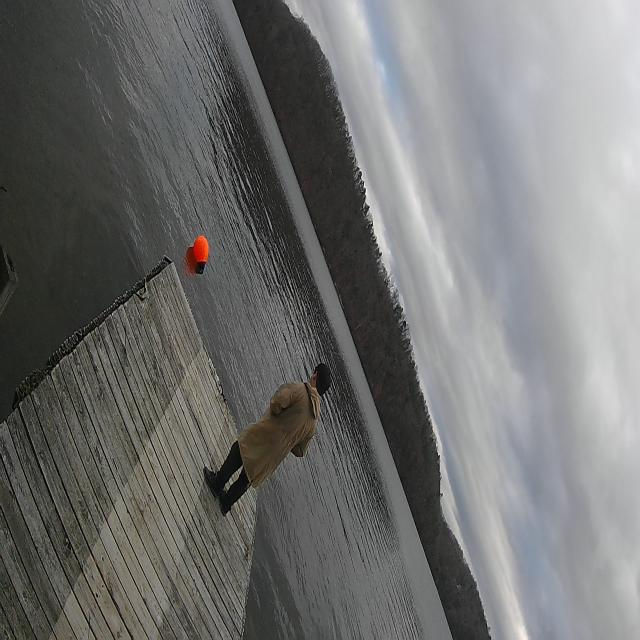Buoy: (191, 229, 213, 280)
